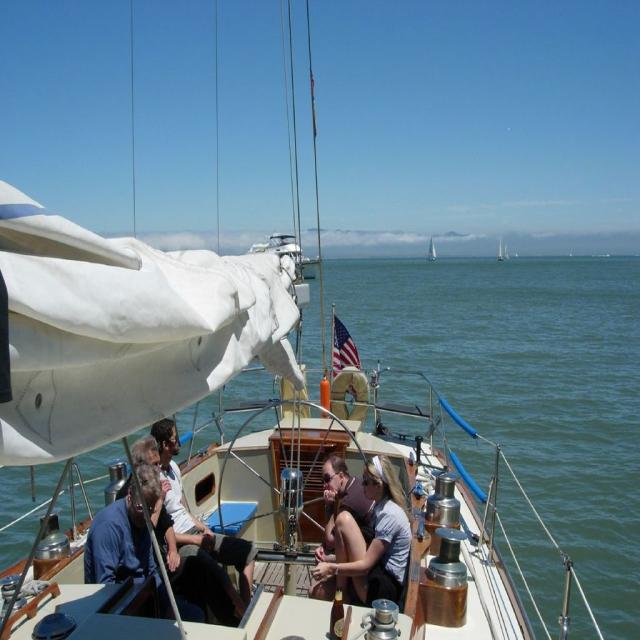Boat: (0, 0, 604, 639), (241, 235, 322, 279), (426, 235, 438, 259), (496, 242, 506, 264), (503, 245, 509, 260)
